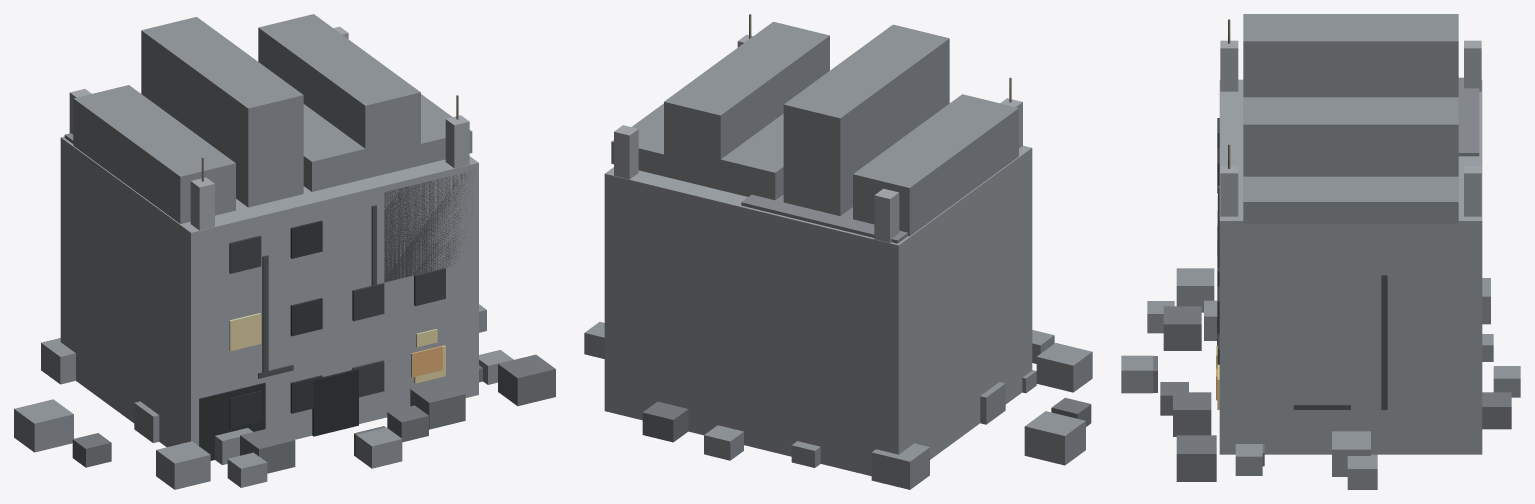
Rendered from building.glb.
The picture shows the model from 3 angles, left to right: view 1: azimuth 30°, elevation 25°; view 2: azimuth 150°, elevation 25°; view 3: azimuth 270°, elevation 25°; orthographic projection. The views are drawn at different scales.
Parts seen in each view (by area): view 1: building; view 2: building; view 3: building.
Part boxes in pixels (left/top/right/bottom): building: left=14, top=14, right=555, bottom=489; building: left=584, top=14, right=1092, bottom=489; building: left=1121, top=14, right=1520, bottom=489.
Bounding box in the file's own units: 22.58 × 15.4 × 16.73.
